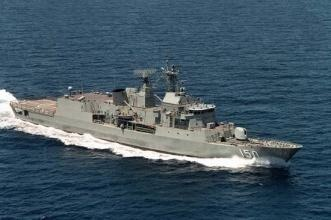warship: (1, 60, 295, 166)
